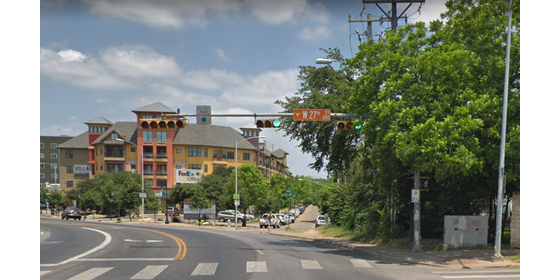left turn yield on green sign: (195, 104, 212, 126)
